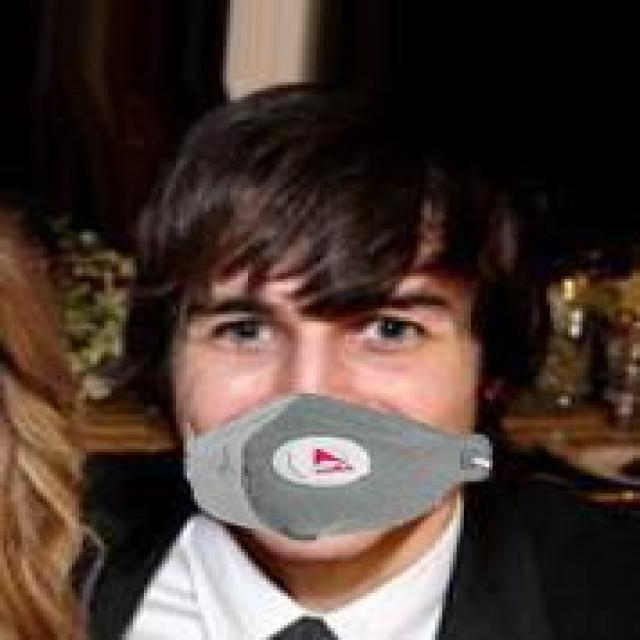mask: (148, 76, 550, 578)
